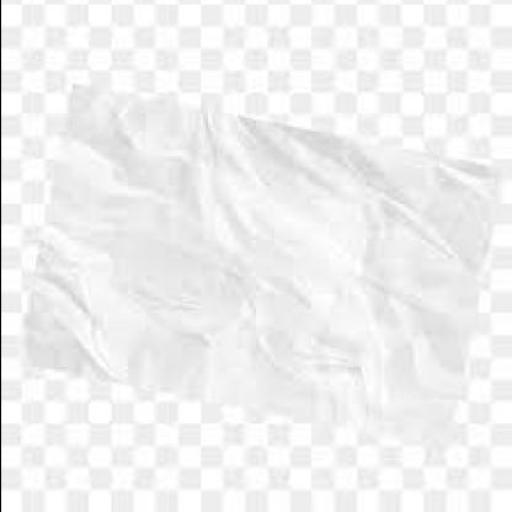paper: (33, 86, 505, 406)
